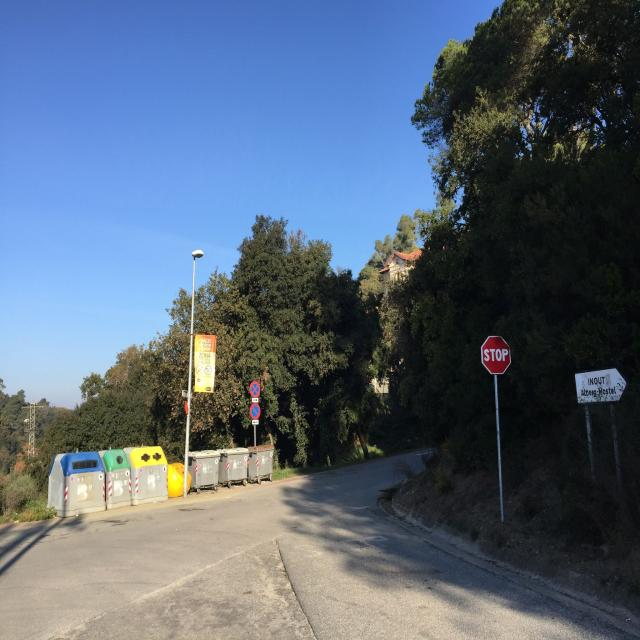forb_stopping: (250, 402, 261, 420)
forb_waiting: (249, 381, 260, 397)
